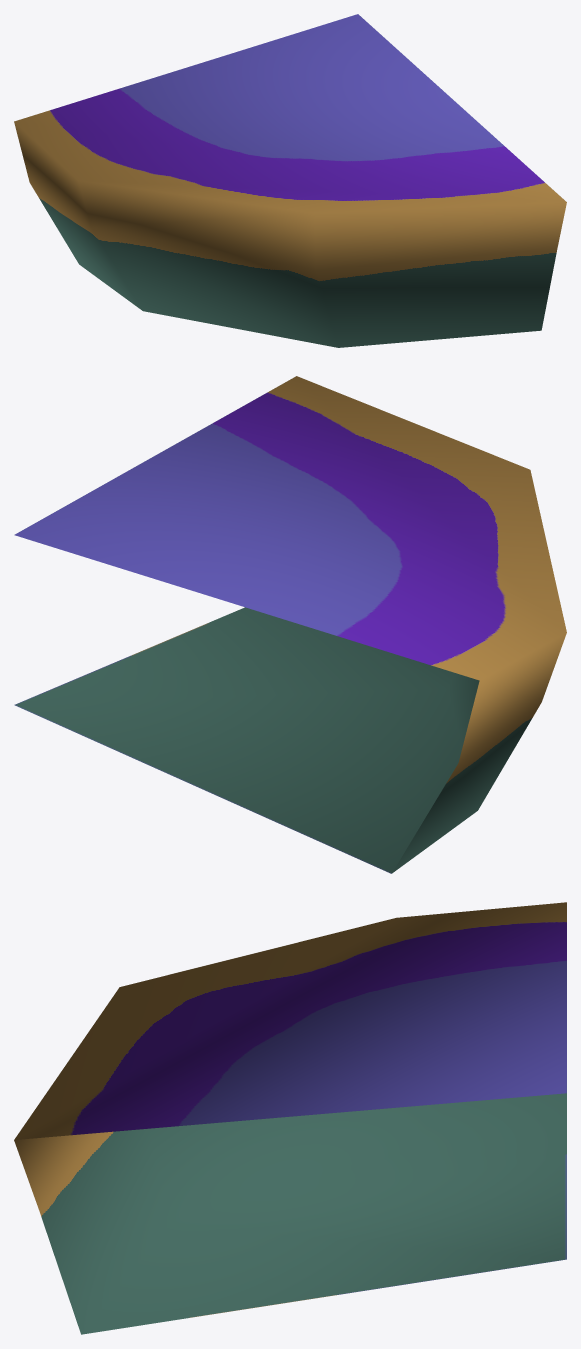
File: Pie.glb
3 renders of one model, top to bottom at view 1: azimuth 30°, elevation 25°; view 2: azimuth 150°, elevation 25°; view 3: azimuth 270°, elevation 25°, orthographic. The views are drawn at different scales.
Parts seen in each view (by area): view 1: Cylinder; view 2: Cylinder; view 3: Cylinder.
Boxes of the visible parts, x1=… form: Cylinder: x1=14, y1=14, x2=566, y2=347; Cylinder: x1=14, y1=376, x2=566, y2=873; Cylinder: x1=14, y1=902, x2=566, y2=1334.
Size of the model in its own units: 0.9963 by 0.5046 by 1.05.
Materials: 1 (1 with a texture image).
